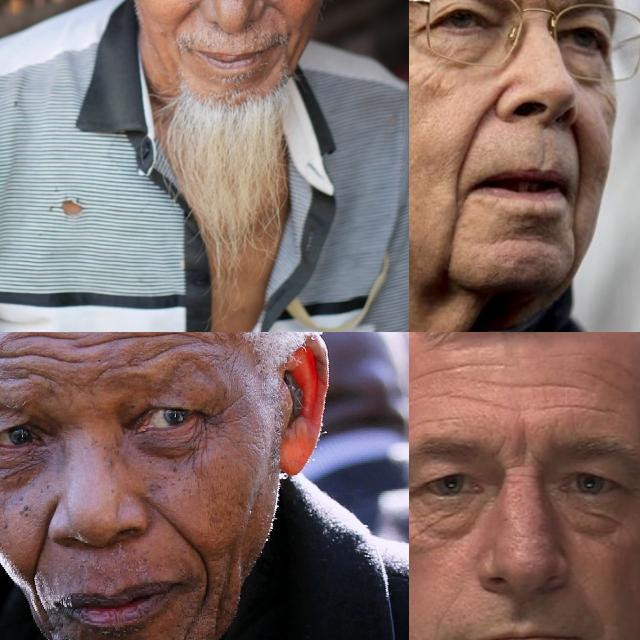chin: (176, 624, 194, 640)
crows_feet: (198, 409, 224, 435), (409, 14, 421, 47), (409, 484, 418, 510)
forehead: (550, 394, 608, 420), (524, 375, 580, 397), (426, 355, 476, 379), (456, 390, 506, 412), (91, 332, 147, 351), (484, 370, 520, 398), (0, 349, 41, 368), (410, 411, 452, 429), (138, 343, 178, 361), (96, 360, 130, 380), (19, 332, 73, 343), (157, 332, 205, 343)
frown_line: (508, 438, 542, 472), (540, 0, 554, 10)
gummy_smile: (151, 503, 203, 553), (454, 102, 488, 176), (28, 520, 52, 580), (566, 134, 588, 188), (172, 0, 205, 27)
sad_smile: (442, 210, 468, 256), (192, 565, 218, 601), (563, 220, 583, 266), (30, 580, 52, 616)
